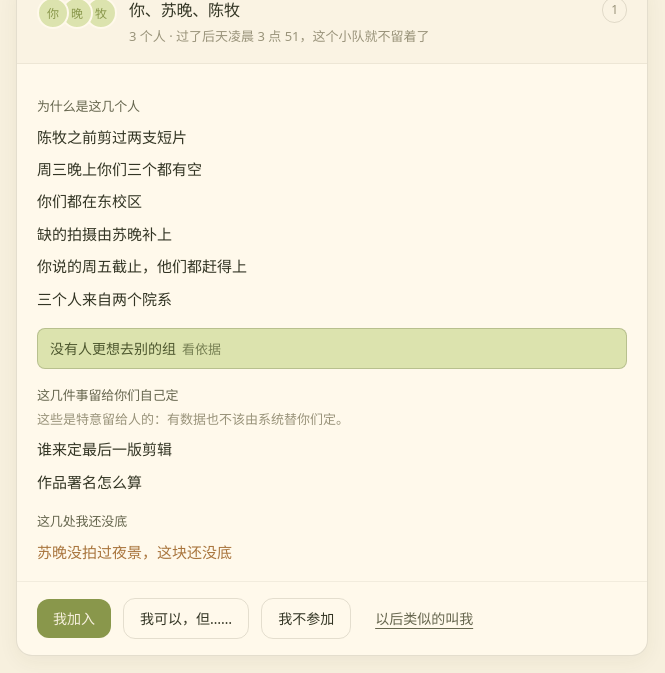
Test: 三个动作 › 我加入之后，说清还在等谁
(page scrolled)
Click the button "我加入" at point(74, 619), box x1=37 y1=599 x2=111 y2=638
(page scrolled)
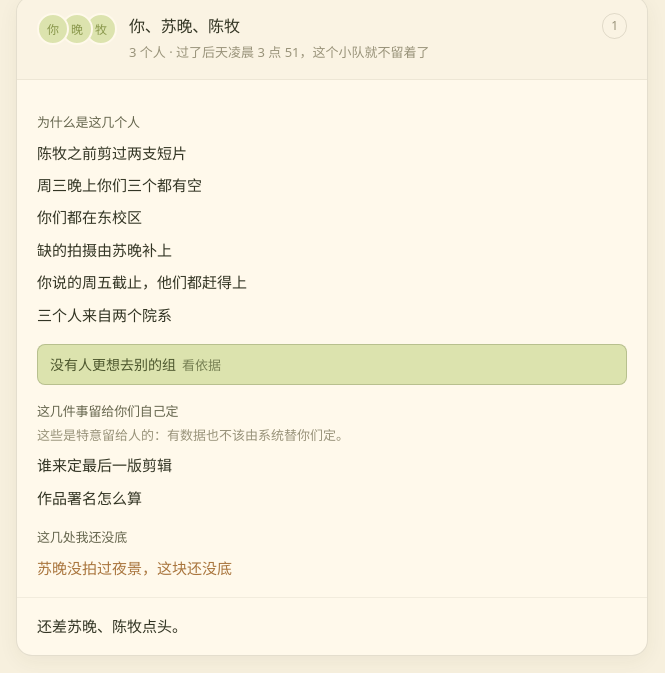
Expected: the text "还差苏晚、陈牧点头。" is shown, x1=37 y1=616 x2=187 y2=636
